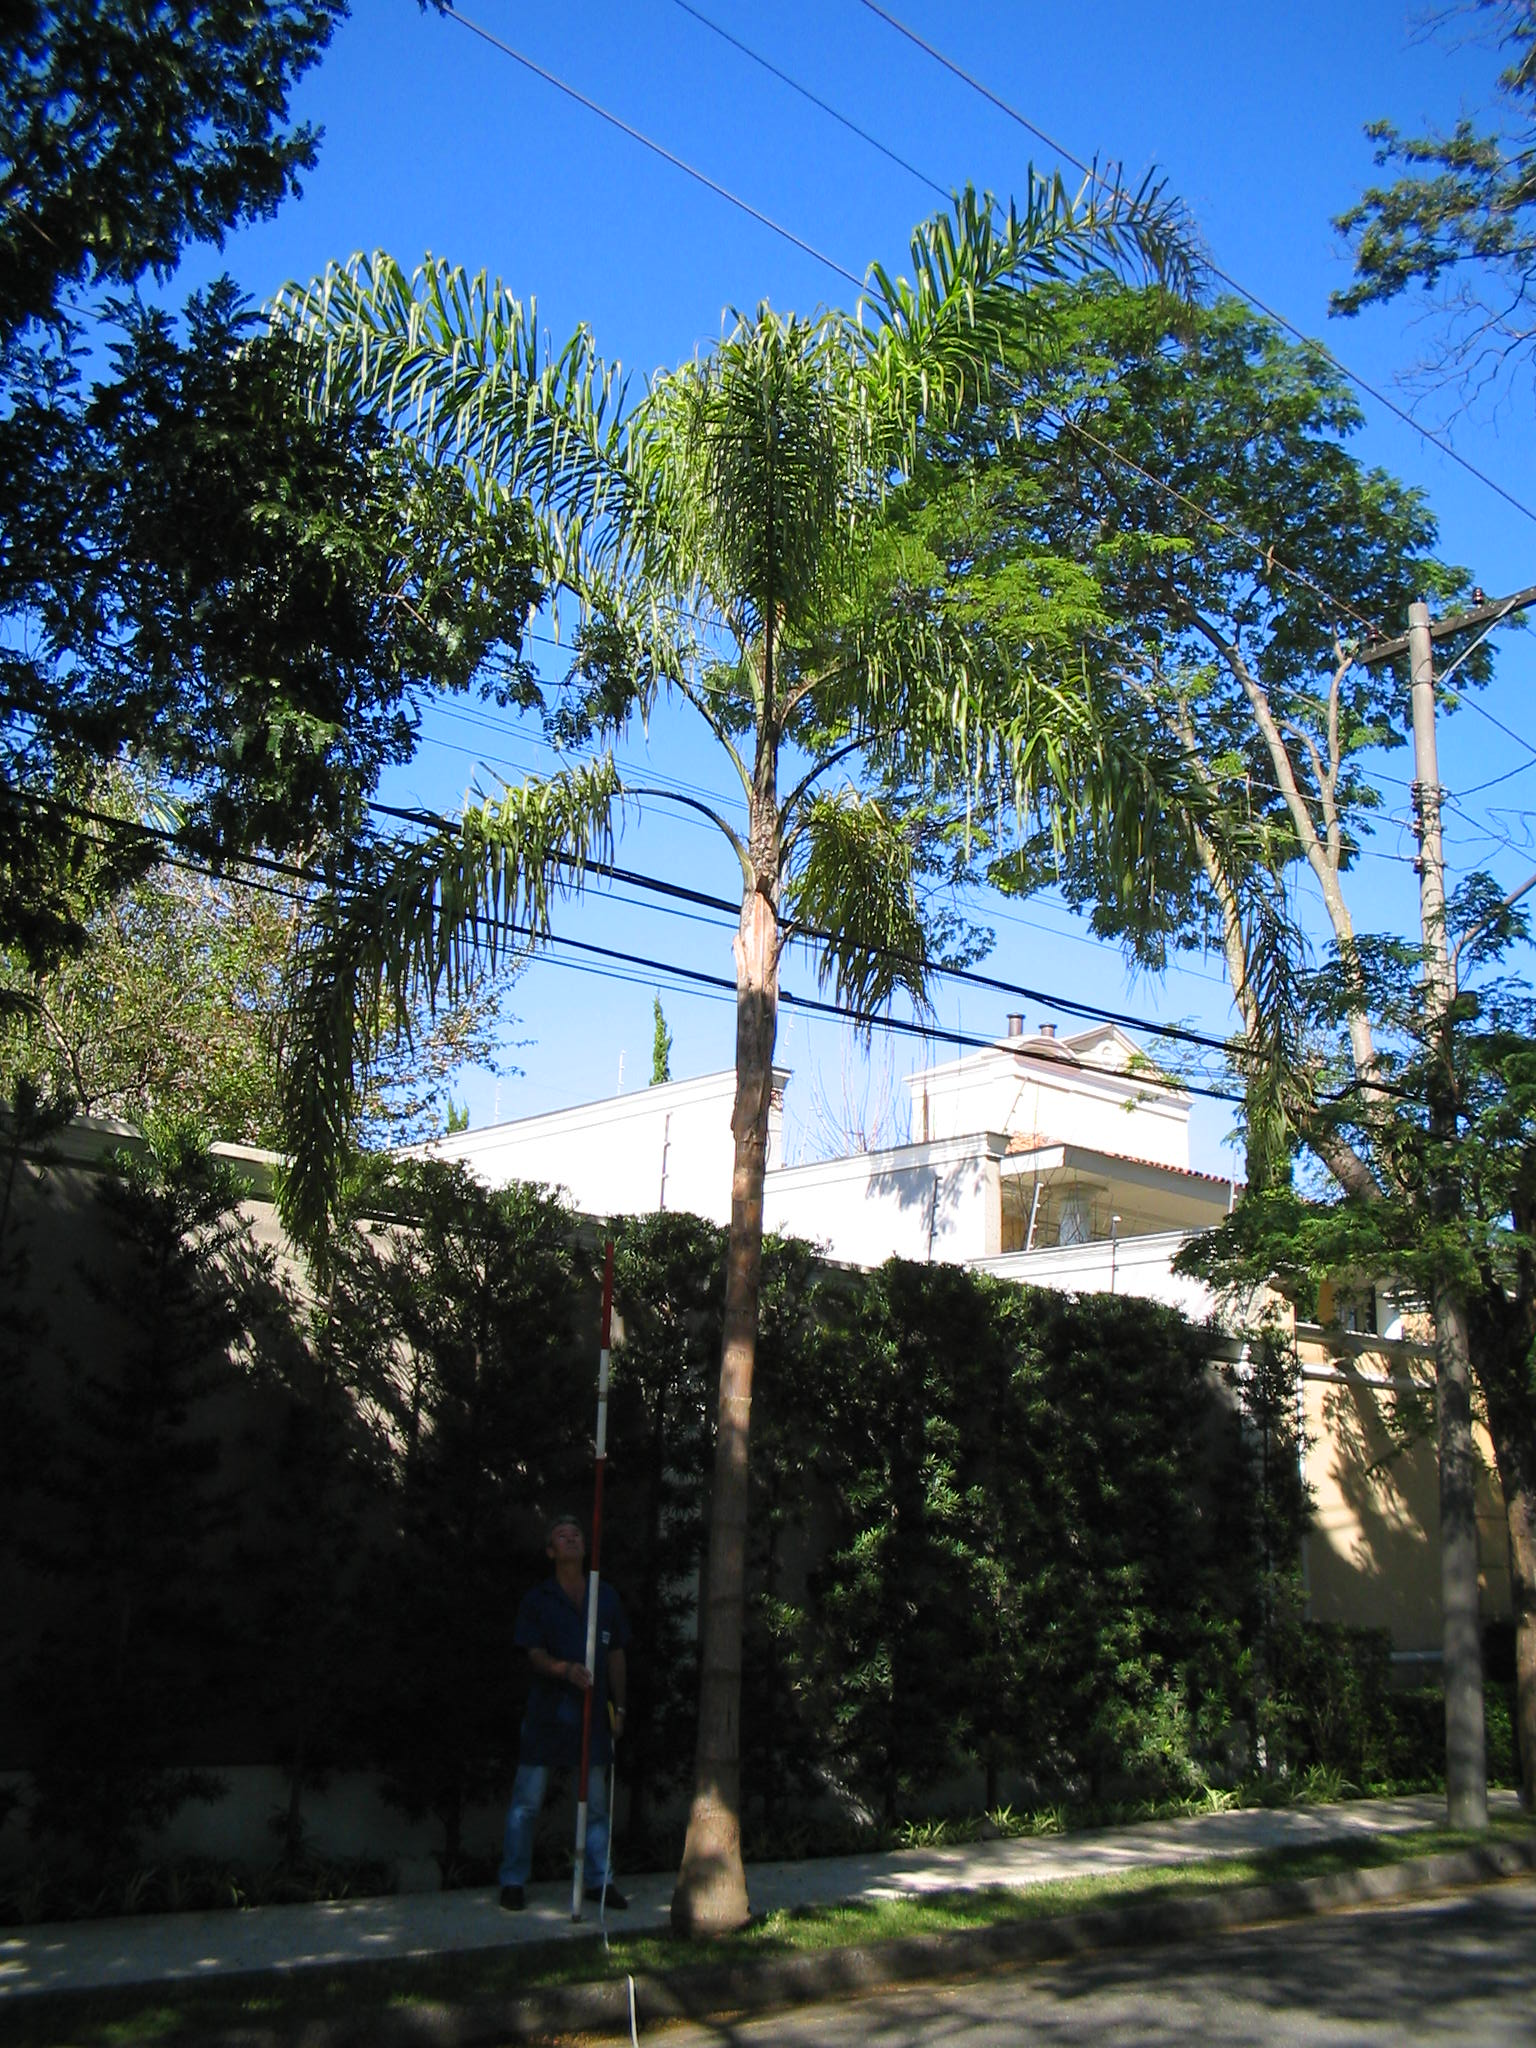crown: (282, 161, 1210, 1332)
stem: (649, 1021, 828, 1940)
stick: (537, 1242, 631, 1921)
tree: (274, 158, 1210, 1942)
